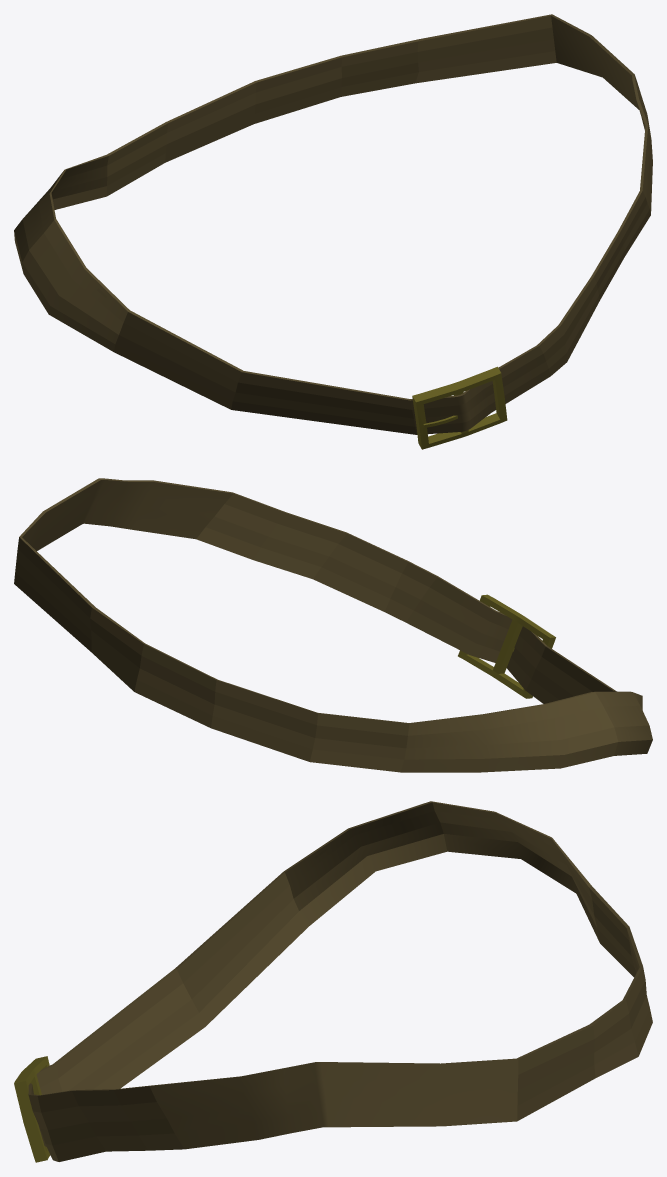
The model's file is Belt.fbx.
The picture shows the model from 3 angles, top to bottom: view 1: azimuth 30°, elevation 25°; view 2: azimuth 150°, elevation 25°; view 3: azimuth 270°, elevation 25°; orthographic projection. The views are drawn at different scales.
Visible parts, largest first — view 1: polySurface459; view 2: polySurface459; view 3: polySurface459.
Boxes of the visible parts, x1,y1,x2,y2 form: polySurface459: (14,14,652,449); polySurface459: (14,478,652,772); polySurface459: (14,801,652,1162).
Bounding box in the file's own units: 3.18 × 1.14 × 2.46.
